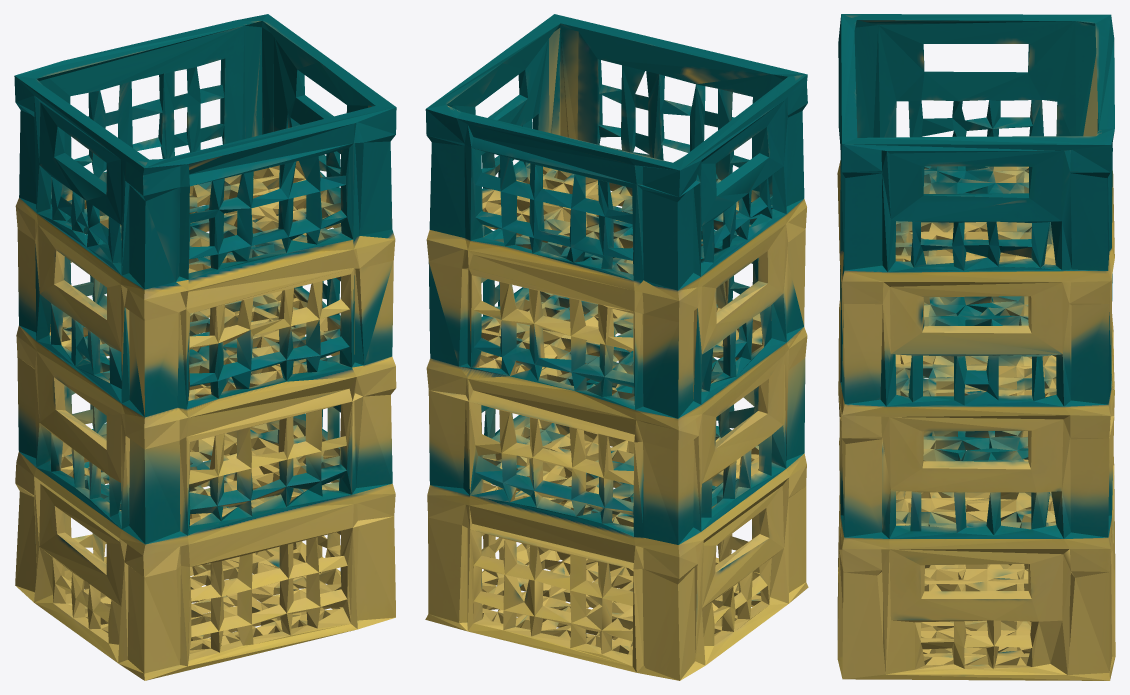
File: plastic_crates_stack.glb
The picture shows the model from 3 angles, left to right: view 1: azimuth 30°, elevation 25°; view 2: azimuth 150°, elevation 25°; view 3: azimuth 270°, elevation 25°; orthographic projection. The views are drawn at different scales.
Parts seen in each view (by area): view 1: plastic_crates_stack; view 2: plastic_crates_stack; view 3: plastic_crates_stack.
Boxes of the visible parts, x1,y1,x2,y2 form: plastic_crates_stack: [14, 14, 396, 680]; plastic_crates_stack: [425, 14, 808, 680]; plastic_crates_stack: [837, 14, 1115, 680].
Bounding box in the file's own units: 0.45 × 0.858 × 0.3993.
1 material, 1 textured.
